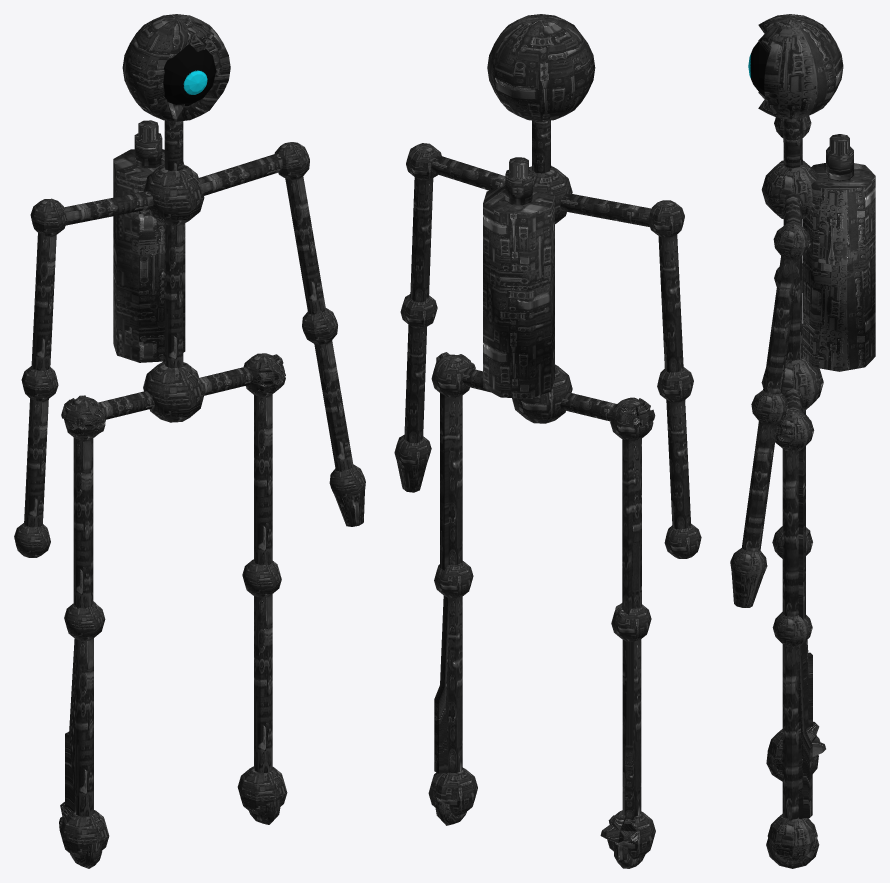
Rendered from FBX Roi 2.fbx.
3 views of the same model, side by side, from view 1: azimuth 30°, elevation 25°; view 2: azimuth 150°, elevation 25°; view 3: azimuth 270°, elevation 25° (orthographic). The views are drawn at different scales.
Parts seen in each view (by area): view 1: pCylinder29, pSphere30, pCylinder16, pCylinder17, pCylinder15, pCylinder18, pCylinder23, pSphere29, pSphere28, pCylinder21, pCylinder22, pCylinder20 (+20 smaller); view 2: pCylinder29, pSphere30, pCylinder15, pCylinder18, pCylinder16, pCylinder17, pCylinder21, pCylinder20, pCylinder22, pCylinder19, pSphere17, pCylinder27 (+17 smaller); view 3: pCylinder29, pSphere30, pCylinder15, pCylinder18, pCylinder22, pCylinder19, pSphere28, pSphere16, pSphere23, pSphere29, pSphere20, pCylinder30 (+13 smaller).
Part boxes in pixels (x1,y1,x2,y2): pCylinder29: (113, 149, 185, 362); pSphere30: (122, 14, 230, 121); pCylinder16: (65, 638, 93, 816); pCylinder17: (73, 437, 93, 608); pCylinder15: (254, 594, 272, 772); pCylinder18: (254, 394, 272, 565); pCylinder23: (164, 224, 183, 368); pSphere29: (143, 361, 204, 422); pSphere28: (143, 164, 204, 225); pCylinder21: (31, 233, 56, 370); pCylinder22: (285, 176, 325, 314); pCylinder20: (24, 398, 48, 527); pCylinder29: (483, 185, 554, 398); pSphere30: (487, 14, 595, 121); pCylinder15: (434, 595, 462, 773); pCylinder18: (440, 393, 462, 570); pCylinder16: (622, 639, 641, 820); pCylinder17: (622, 438, 641, 614); pCylinder21: (658, 234, 683, 372); pCylinder20: (666, 400, 690, 529); pCylinder22: (410, 177, 433, 302); pCylinder19: (404, 324, 426, 443); pSphere17: (600, 810, 655, 859); pCylinder27: (560, 193, 651, 226); pCylinder29: (803, 163, 875, 371); pSphere30: (758, 14, 843, 119); pCylinder15: (782, 644, 812, 819); pCylinder18: (782, 446, 805, 619); pCylinder22: (763, 256, 799, 394); pCylinder19: (742, 421, 777, 551); pSphere28: (761, 160, 819, 218); pSphere16: (767, 814, 817, 860); pSphere23: (730, 548, 767, 607); pSphere29: (761, 353, 823, 411); pSphere20: (775, 409, 814, 451); pCylinder30: (826, 134, 853, 181).
Size of the model in its own units: 3.98 by 9.64 by 1.57.
